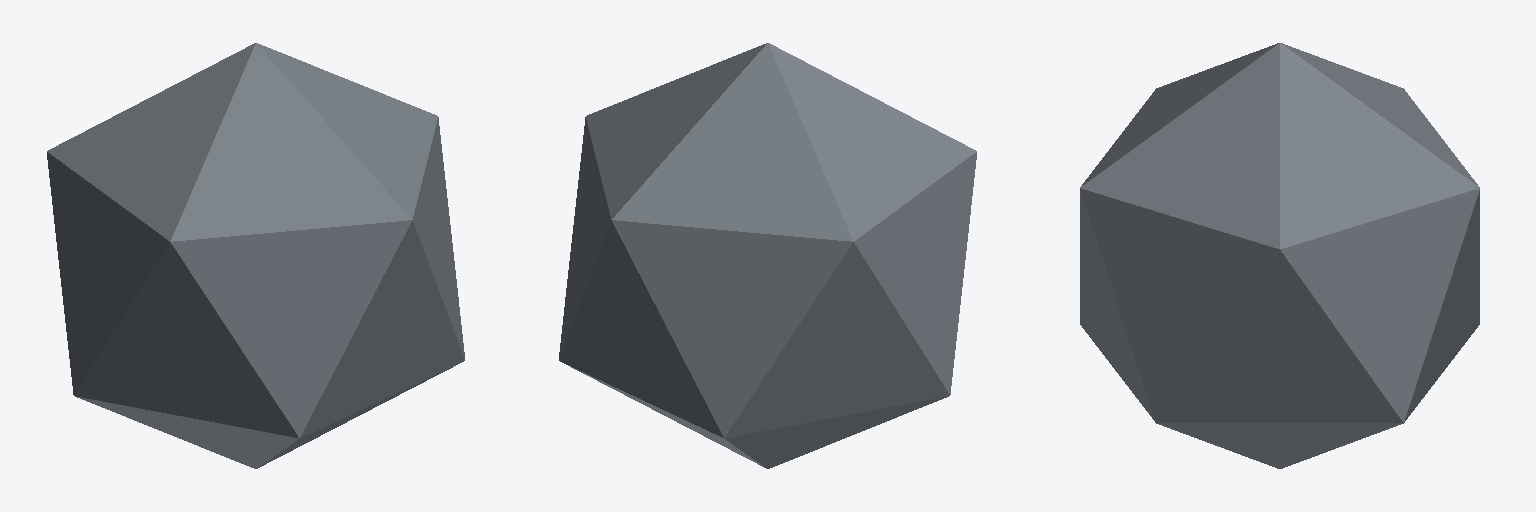
File: ForestSceneClean.obj
The picture shows the model from 3 angles: view 1: azimuth 30°, elevation 25°; view 2: azimuth 150°, elevation 25°; view 3: azimuth 270°, elevation 25°; orthographic projection.
Parts seen in each view (by area): view 1: GeoSphere001; view 2: GeoSphere001; view 3: GeoSphere001.
Part boxes in pixels (left/top/right/bottom): GeoSphere001: left=47, top=43, right=464, bottom=468; GeoSphere001: left=559, top=43, right=976, bottom=468; GeoSphere001: left=1080, top=43, right=1479, bottom=468.
Bounding box in the file's own units: 78140 × 87363 × 74316.